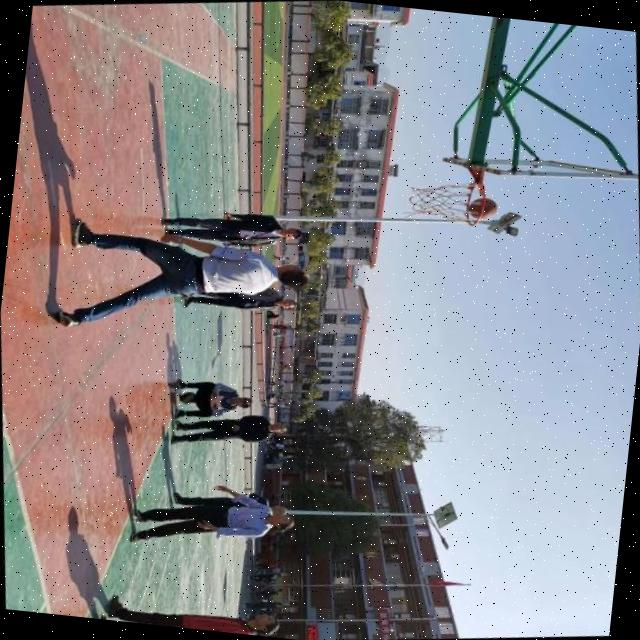ball: (466, 194, 499, 222)
hoop: (460, 178, 490, 228)
